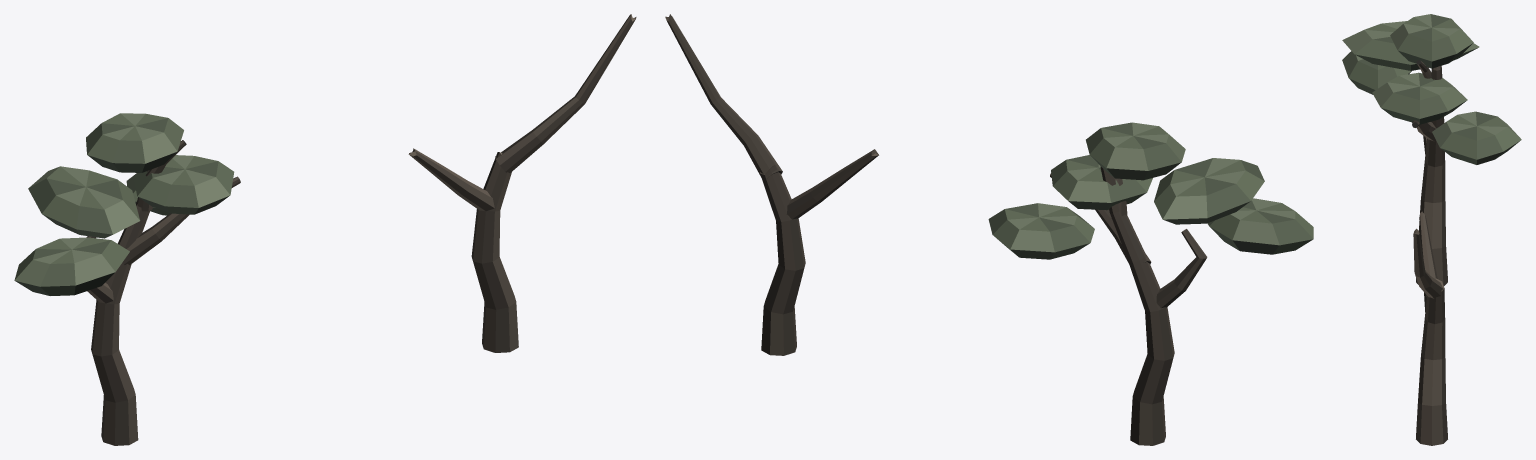
File: n01_wind_bent_trees.glb
The picture shows the model from 3 angles, left to right: view 1: azimuth 30°, elevation 25°; view 2: azimuth 150°, elevation 25°; view 3: azimuth 270°, elevation 25°; orthographic projection. The views are drawn at different scales.
Visible parts, largest first — view 1: N01_Living_BroadLeafMass_LeftUpper, N01_Shared_SCurved_Trunk, N01_Dry_SameTrunk, N01_Living_BroadLeafMass_LeftLow, N01_Living_BroadLeafMass_Crown, N01_Living_BroadLeafMass_RightMid, N01_Dry_BrokenBranch_Windward, N01_Dry_BrokenBranch_Left, N01_Living_PrimaryBranch_MidRight; view 2: N01_Shared_SCurved_Trunk, N01_Living_BroadLeafMass_LeftUpper, N01_Dry_SameTrunk, N01_Living_BroadLeafMass_RightLow, N01_Living_BroadLeafMass_Crown, N01_Living_BroadLeafMass_LeftLow, N01_Living_BroadLeafMass_RightMid, N01_Dry_BrokenBranch_Windward, N01_Dry_BrokenBranch_Left, N01_Living_PrimaryBranch_Left; view 3: N01_Dry_SameTrunk, N01_Living_BroadLeafMass_RightMid, N01_Living_BroadLeafMass_RightLow, N01_Living_BroadLeafMass_Crown, N01_Shared_SCurved_Trunk, N01_Living_BroadLeafMass_LeftUpper, N01_Living_BroadLeafMass_LeftLow, N01_Dry_BrokenBranch_Windward, N01_Dry_BrokenBranch_Left, N01_Living_PrimaryBranch_MidRight.
Boxes of the visible parts, left/top/right/bottom form: N01_Living_BroadLeafMass_LeftUpper: left=28, top=166, right=140, bottom=238; N01_Shared_SCurved_Trunk: left=91, top=170, right=149, bottom=445; N01_Dry_SameTrunk: left=471, top=152, right=518, bottom=352; N01_Living_BroadLeafMass_LeftLow: left=14, top=237, right=129, bottom=295; N01_Living_BroadLeafMass_Crown: left=86, top=113, right=183, bottom=172; N01_Living_BroadLeafMass_RightMid: left=133, top=155, right=234, bottom=214; N01_Dry_BrokenBranch_Windward: left=495, top=14, right=636, bottom=172; N01_Dry_BrokenBranch_Left: left=408, top=148, right=494, bottom=211; N01_Living_PrimaryBranch_MidRight: left=122, top=176, right=240, bottom=264; N01_Shared_SCurved_Trunk: left=1100, top=166, right=1174, bottom=445; N01_Living_BroadLeafMass_LeftUpper: left=1154, top=158, right=1264, bottom=224; N01_Dry_SameTrunk: left=760, top=164, right=805, bottom=355; N01_Living_BroadLeafMass_RightLow: left=988, top=203, right=1094, bottom=259; N01_Living_BroadLeafMass_Crown: left=1086, top=122, right=1185, bottom=180; N01_Living_BroadLeafMass_LeftLow: left=1207, top=198, right=1313, bottom=254; N01_Living_BroadLeafMass_RightMid: left=1051, top=155, right=1152, bottom=210; N01_Dry_BrokenBranch_Windward: left=665, top=14, right=782, bottom=178; N01_Dry_BrokenBranch_Left: left=786, top=149, right=878, bottom=219; N01_Living_PrimaryBranch_Left: left=1156, top=229, right=1207, bottom=308; N01_Dry_SameTrunk: left=1416, top=278, right=1447, bottom=445; N01_Living_BroadLeafMass_RightMid: left=1372, top=72, right=1467, bottom=124; N01_Living_BroadLeafMass_RightLow: left=1432, top=111, right=1521, bottom=164; N01_Living_BroadLeafMass_Crown: left=1390, top=14, right=1473, bottom=68; N01_Shared_SCurved_Trunk: left=1416, top=66, right=1447, bottom=285; N01_Living_BroadLeafMass_LeftUpper: left=1342, top=21, right=1479, bottom=70; N01_Living_BroadLeafMass_LeftLow: left=1342, top=51, right=1411, bottom=94; N01_Dry_BrokenBranch_Windward: left=1413, top=228, right=1443, bottom=298; N01_Dry_BrokenBranch_Left: left=1419, top=211, right=1437, bottom=311; N01_Living_PrimaryBranch_MidRight: left=1412, top=120, right=1436, bottom=141.
Size of the model in its own units: 10.52 by 4.8 by 3.
